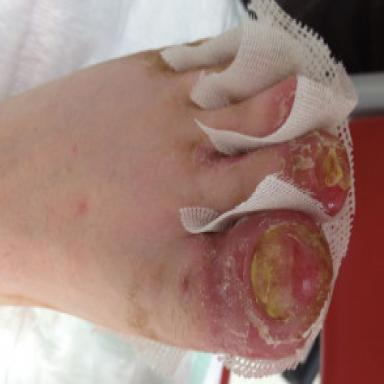eczema: (176, 211, 332, 358), (277, 130, 351, 215), (191, 134, 249, 166), (269, 76, 295, 132)
